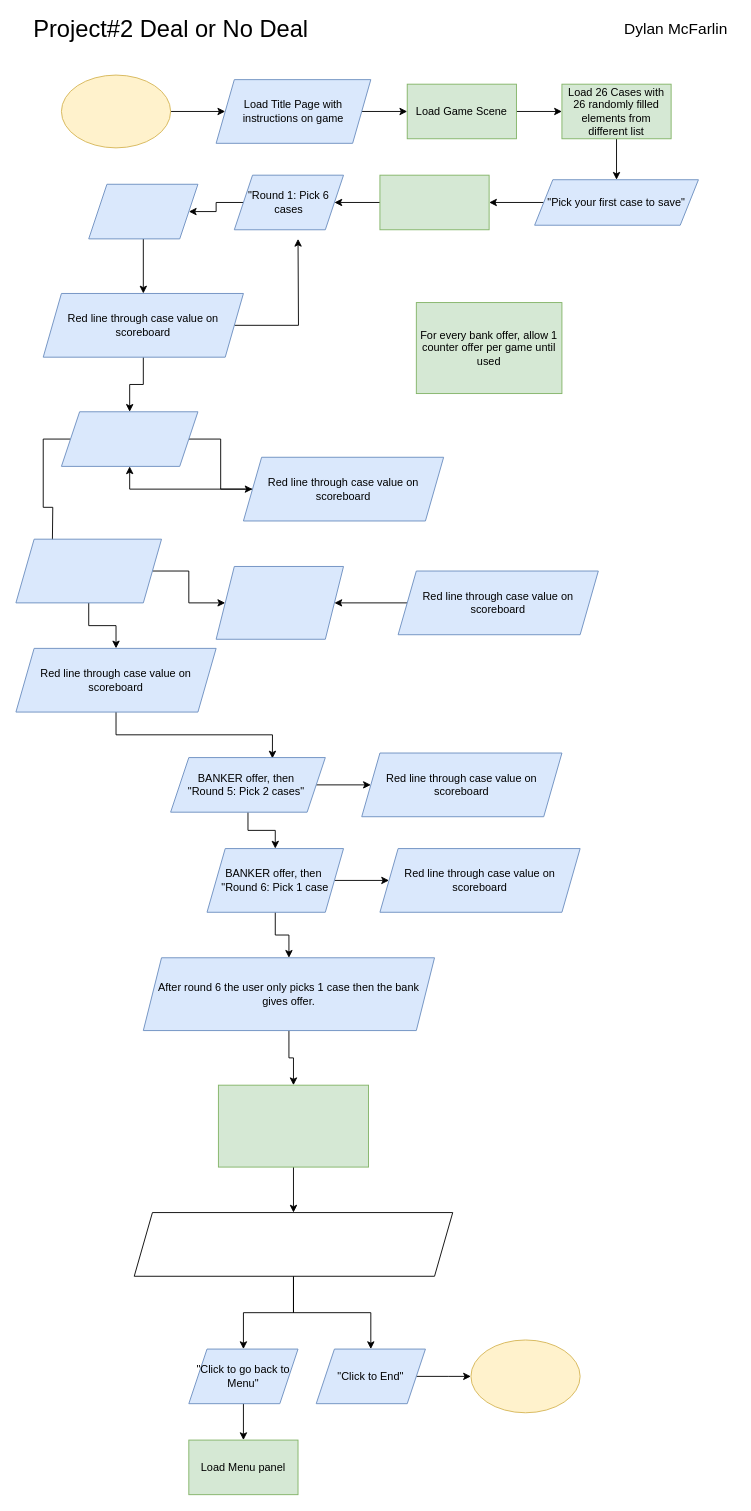
This 751x1511 diagram has some shape labels left out. The shapes that lost their labels are listed below. From the top down, each one's box as (x1, y1, x2, y2) in pixels, then its label:
(61, 74, 171, 148): START
(88, 183, 198, 239): Case picked
(379, 174, 489, 230): Save first case clicked for later
(61, 411, 198, 466): BANKER offer, then "Round 2: Pick 5 cases
(15, 538, 162, 603): BANKER offer, then "Round 3: Pick 4 cases
(215, 566, 344, 639): BANKER offer, then "Round 4: Pick 3 cases
(217, 1084, 369, 1167): Give option to switch last case for their first original saved case
(133, 1212, 453, 1276): Display winnings by banker offer or by opening the last case
(470, 1339, 580, 1413): End Application
